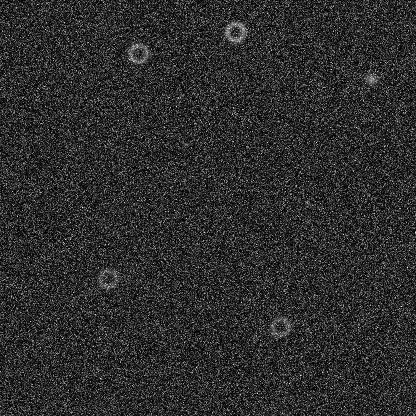Ring: (126, 41, 150, 65), (223, 19, 247, 43), (268, 314, 292, 338), (95, 266, 119, 290)
Spot: (185, 241, 201, 257), (362, 71, 378, 87)
